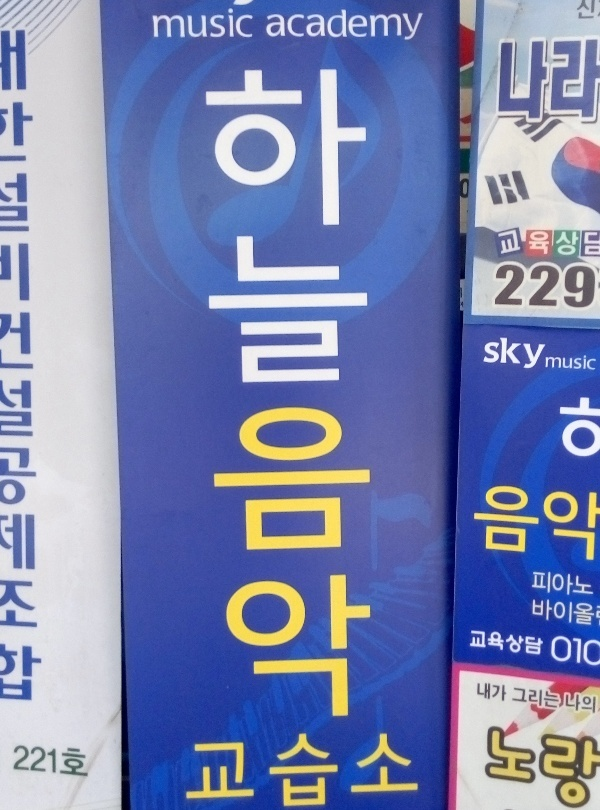text: (1, 27, 16, 707), (17, 27, 32, 707), (209, 61, 224, 728), (225, 61, 240, 728), (241, 61, 256, 728), (257, 61, 272, 728), (273, 61, 288, 728), (289, 61, 304, 728), (305, 61, 320, 728), (321, 61, 336, 728), (337, 61, 352, 728), (353, 61, 368, 728), (33, 27, 44, 707), (369, 61, 375, 728), (203, 61, 208, 728), (561, 35, 576, 127), (577, 35, 592, 127), (513, 36, 528, 125), (529, 36, 544, 125), (481, 481, 496, 563), (497, 481, 512, 563), (513, 481, 528, 563), (529, 481, 544, 563), (545, 481, 560, 563), (561, 481, 576, 563), (577, 481, 592, 563), (193, 729, 208, 808), (209, 729, 224, 808), (225, 729, 240, 808), (241, 729, 256, 808), (257, 729, 272, 808), (273, 729, 288, 808), (289, 729, 304, 808), (305, 729, 320, 808), (321, 729, 336, 808), (337, 729, 352, 808), (353, 729, 368, 808), (369, 729, 384, 808), (385, 729, 400, 808), (401, 729, 416, 808), (499, 36, 512, 125), (545, 731, 560, 804), (561, 731, 576, 804), (577, 731, 592, 804), (497, 721, 512, 791), (513, 721, 528, 791), (551, 35, 560, 127), (497, 260, 512, 314), (513, 260, 528, 314), (529, 260, 544, 314), (545, 260, 560, 314), (561, 260, 576, 314), (577, 260, 592, 314), (485, 721, 496, 791), (17, 742, 32, 788), (33, 742, 48, 788), (49, 742, 64, 788), (65, 742, 80, 788), (593, 35, 600, 127), (417, 729, 425, 808), (529, 721, 538, 791), (473, 481, 480, 563), (593, 481, 600, 563), (497, 336, 512, 373), (513, 336, 528, 373), (529, 336, 544, 373), (273, 8, 288, 45), (289, 8, 304, 45), (305, 8, 320, 45), (321, 8, 336, 45), (337, 8, 352, 45), (353, 8, 368, 45), (369, 8, 384, 45), (385, 8, 400, 45), (401, 8, 416, 45), (561, 632, 576, 668), (545, 596, 560, 632), (561, 596, 576, 632), (577, 596, 592, 632), (161, 7, 176, 42), (177, 7, 192, 42), (193, 7, 208, 42), (209, 7, 224, 42), (225, 7, 240, 42), (593, 731, 600, 804), (241, 7, 255, 42), (483, 336, 496, 373), (481, 629, 496, 661), (497, 629, 512, 661), (513, 629, 528, 661), (529, 629, 544, 661), (513, 687, 528, 718), (529, 687, 544, 718), (545, 687, 560, 718), (561, 687, 576, 718), (577, 687, 592, 718), (545, 569, 560, 600), (561, 569, 576, 600), (577, 569, 592, 600), (513, 228, 528, 258), (529, 228, 544, 258), (545, 228, 560, 258), (561, 228, 576, 258), (545, 36, 550, 125), (498, 228, 512, 258), (81, 742, 90, 788), (533, 596, 544, 632), (481, 680, 496, 705), (532, 569, 544, 600), (469, 629, 480, 661), (417, 8, 426, 45), (545, 352, 560, 373), (561, 352, 576, 373), (577, 352, 592, 373), (540, 731, 544, 804), (552, 632, 560, 668), (577, 1, 592, 20), (152, 7, 160, 42), (265, 8, 272, 45), (497, 680, 507, 705), (577, 632, 583, 668), (545, 336, 550, 373), (12, 742, 16, 788), (593, 260, 596, 314), (190, 729, 192, 808), (593, 352, 599, 373), (593, 687, 597, 718), (577, 228, 581, 258), (593, 1, 599, 20), (593, 596, 596, 632), (477, 680, 480, 705), (593, 569, 595, 600), (495, 260, 496, 314)
